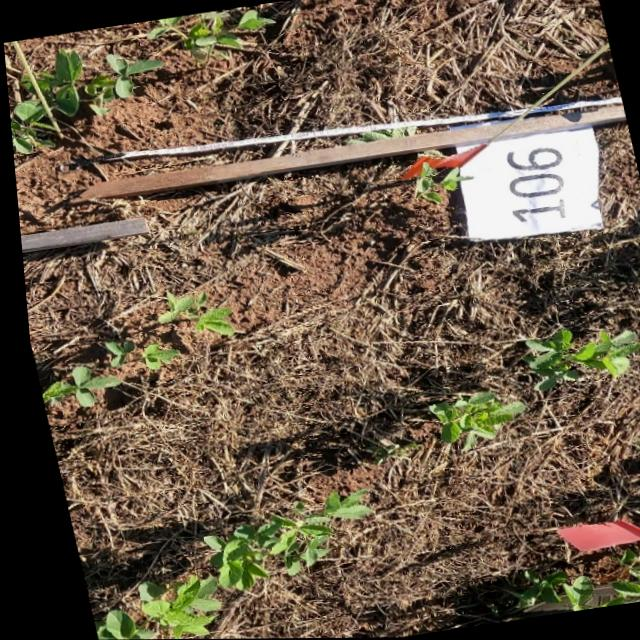soy_plant: (83, 490, 360, 640), (8, 50, 159, 153), (518, 329, 634, 391), (147, 8, 274, 59), (422, 391, 517, 449), (553, 551, 640, 612), (152, 291, 227, 335), (35, 366, 112, 406), (412, 162, 465, 202), (135, 342, 173, 369)
